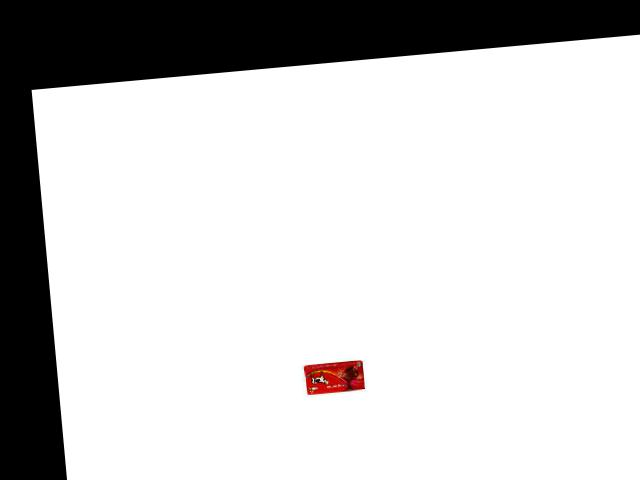chocolate: (300, 357, 365, 395)
